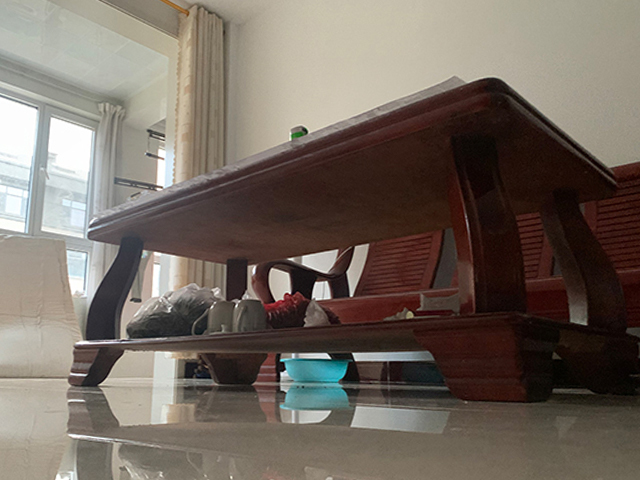curtain: (174, 3, 227, 301)
table: (66, 76, 640, 405)
